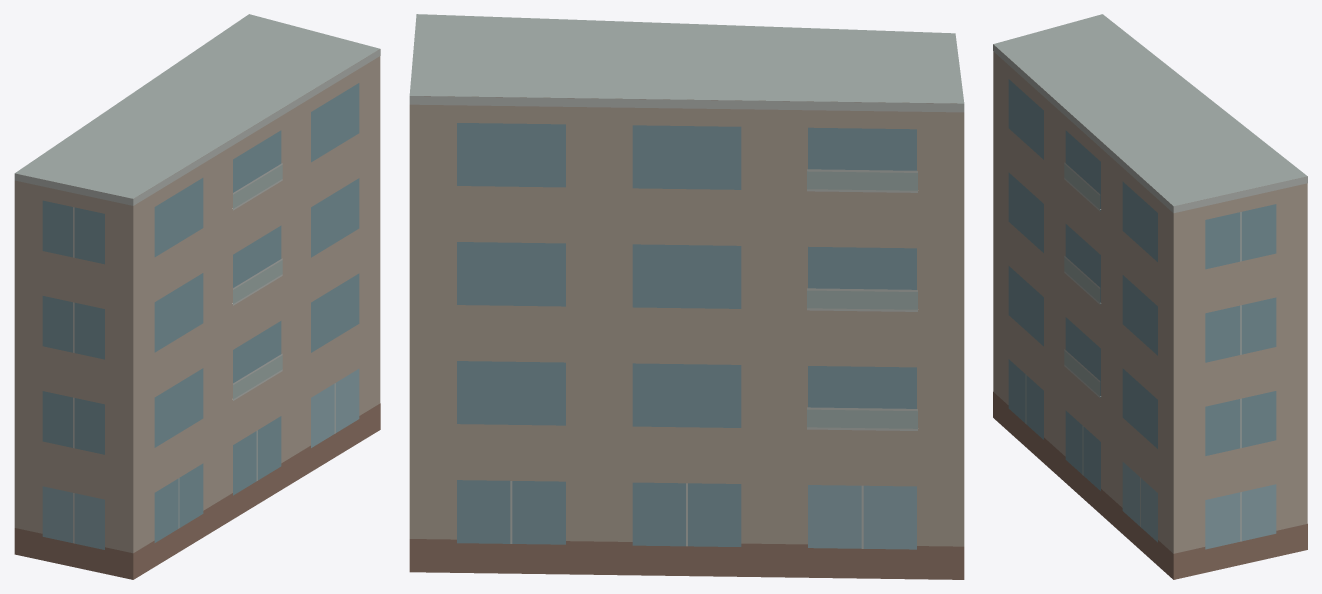
The model's file is survey-upis-32957403.glb.
3 renders of one model, left to right at view 1: azimuth 30°, elevation 25°; view 2: azimuth 150°, elevation 25°; view 3: azimuth 270°, elevation 25°, orthographic. The views are drawn at different scales.
Parts seen in each view (by area): view 1: survey-upis-32957403.tmp; view 2: survey-upis-32957403.tmp; view 3: survey-upis-32957403.tmp.
Part boxes in pixels (<box>): survey-upis-32957403.tmp: <box>14,14,380,579</box>; survey-upis-32957403.tmp: <box>409,14,964,579</box>; survey-upis-32957403.tmp: <box>993,14,1307,579</box>.
Size of the model in its own units: 14.48 by 13.1 by 10.01.
